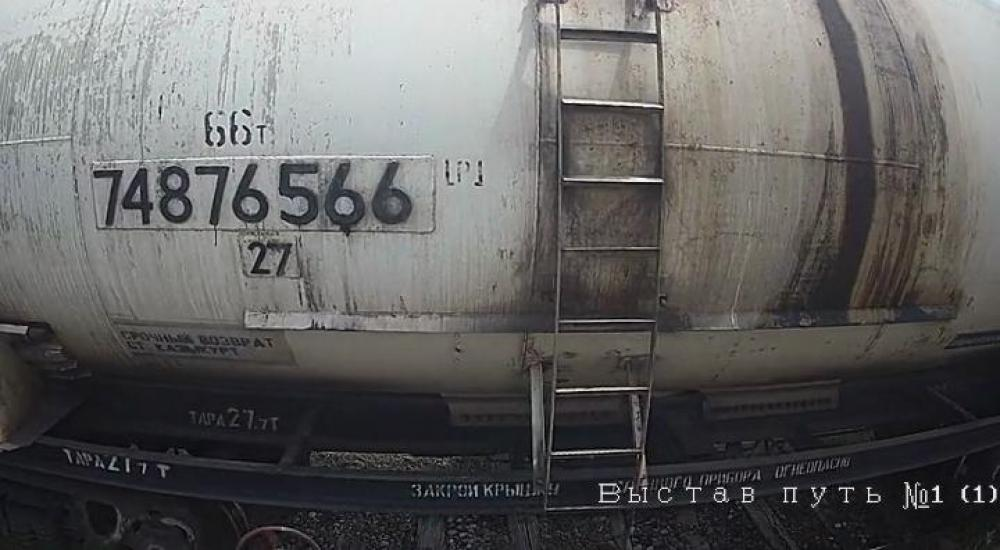Wagon-number: (94, 158, 424, 232)
